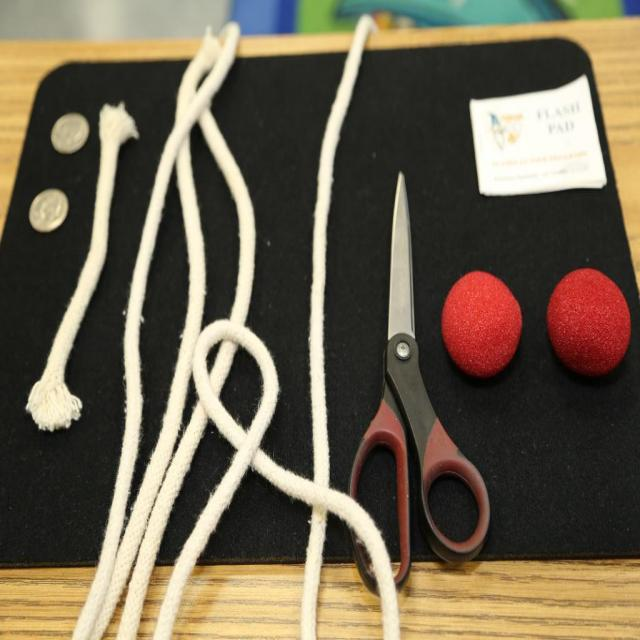scissor: (350, 165, 492, 595)
